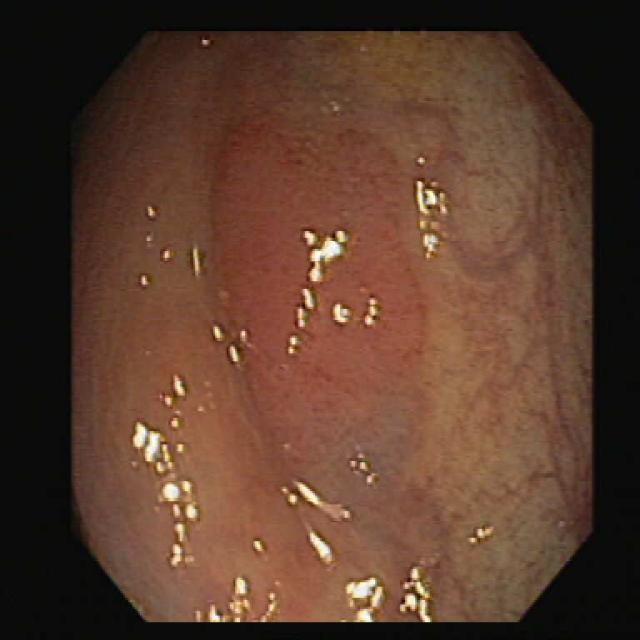tumor: (217, 131, 445, 462)
